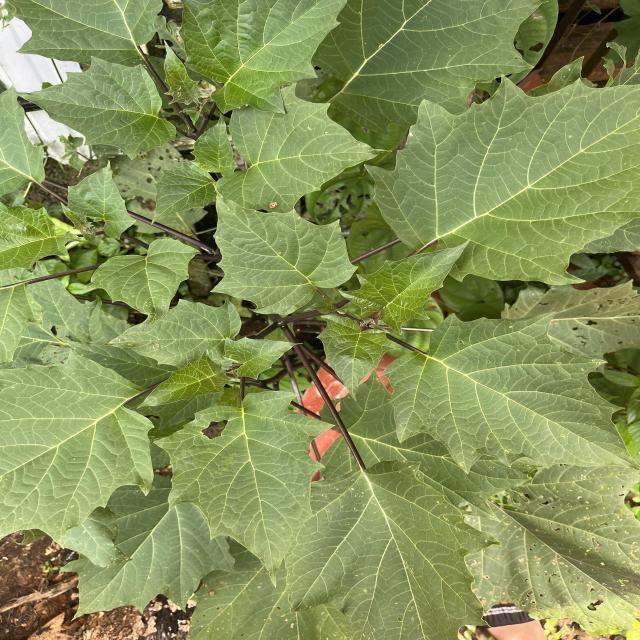Datura metal linn: (378, 308, 640, 475), (151, 388, 339, 589), (214, 80, 394, 215), (208, 190, 360, 316), (10, 54, 178, 162), (338, 236, 471, 336), (84, 236, 204, 326), (315, 314, 397, 403), (58, 157, 138, 241), (136, 348, 237, 410), (150, 161, 217, 226), (222, 334, 304, 382), (189, 110, 239, 175)
